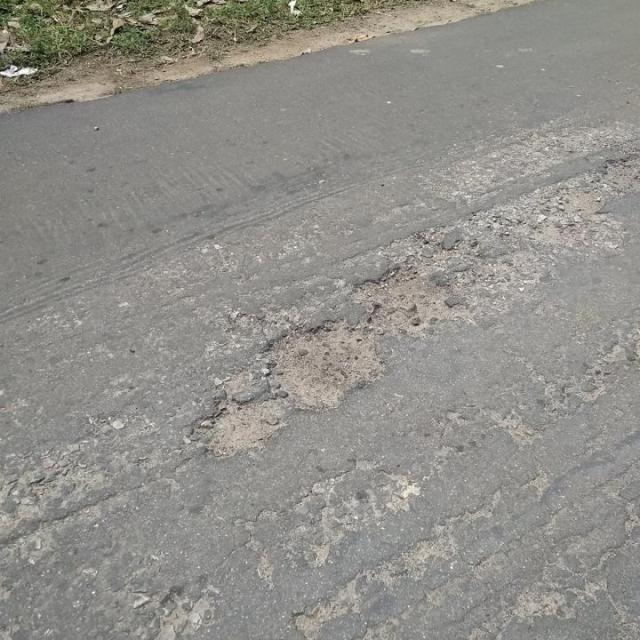pothole: (516, 148, 640, 247), (262, 318, 389, 412), (352, 259, 457, 337), (193, 394, 285, 464)
